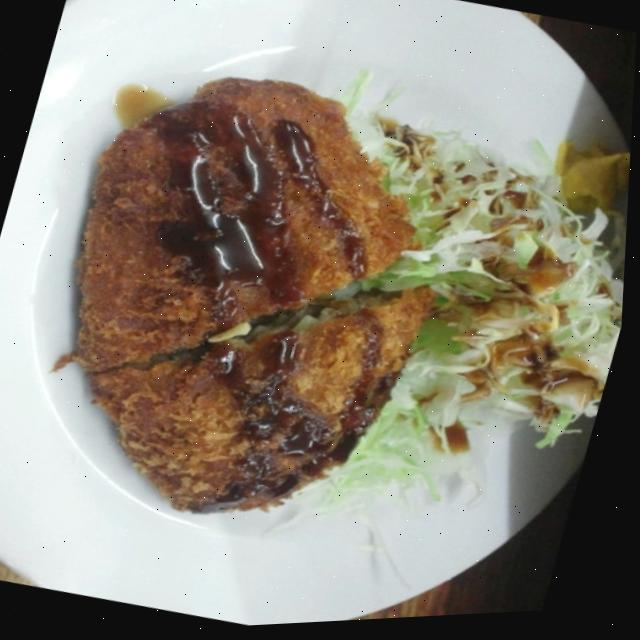炸货点心: (0, 0, 513, 583)
